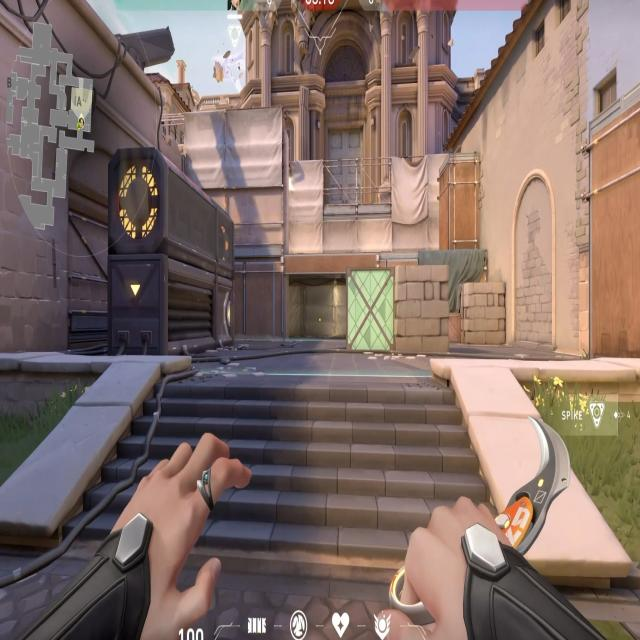A_Heaven_Box: (435, 152, 485, 244)
A_Heaven_Wall: (177, 108, 290, 254)
A_Hell: (269, 263, 392, 351)
A_Site_Box: (346, 266, 452, 356)
